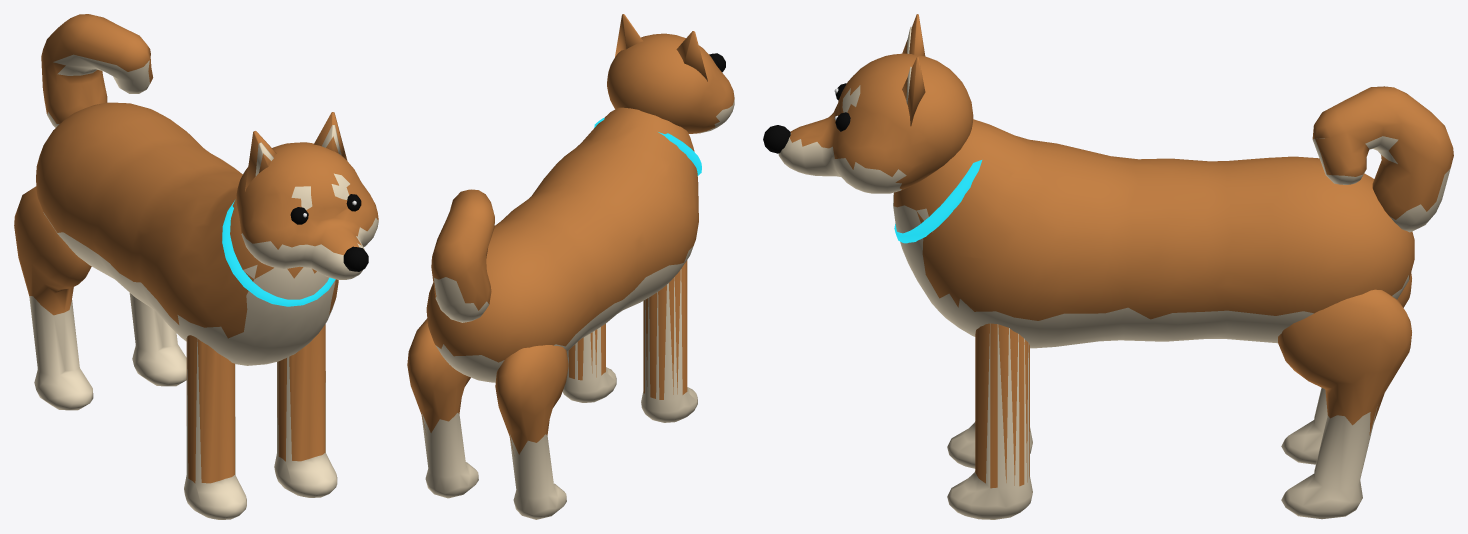
File: Pet_Dog_Walk.glb
3 views of the same model, side by side, from view 1: azimuth 30°, elevation 25°; view 2: azimuth 150°, elevation 25°; view 3: azimuth 270°, elevation 25° (orthographic). The views are drawn at different scales.
Visible parts, largest first — view 1: Pet_Dog_Walk, DogWalk_Head, DogWalk_Leg_BR, DogWalk_Leg_FR, DogWalk_Tail, DogWalk_Leg_FL, DogWalk_Leg_BL; view 2: Pet_Dog_Walk, DogWalk_Head, DogWalk_Leg_BR, DogWalk_Leg_BL, DogWalk_Tail, DogWalk_Leg_FR, DogWalk_Leg_FL; view 3: Pet_Dog_Walk, DogWalk_Head, DogWalk_Leg_BL, DogWalk_Tail, DogWalk_Leg_FL, DogWalk_Leg_BR, DogWalk_Leg_FR.
Part boxes in pixels (x1,y1,x2,y2): Pet_Dog_Walk: [36, 102, 338, 365]; DogWalk_Head: [236, 112, 378, 279]; DogWalk_Leg_BR: [14, 186, 93, 410]; DogWalk_Leg_FR: [184, 335, 246, 519]; DogWalk_Tail: [41, 14, 153, 127]; DogWalk_Leg_FL: [274, 324, 337, 497]; DogWalk_Leg_BL: [129, 293, 186, 386]; Pet_Dog_Walk: [426, 107, 701, 382]; DogWalk_Head: [607, 14, 734, 133]; DogWalk_Leg_BR: [495, 345, 568, 519]; DogWalk_Leg_BL: [407, 318, 478, 498]; DogWalk_Tail: [431, 189, 494, 322]; DogWalk_Leg_FR: [641, 260, 697, 422]; DogWalk_Leg_FL: [562, 324, 616, 402]; Pet_Dog_Walk: [893, 119, 1414, 348]; DogWalk_Head: [763, 14, 973, 193]; DogWalk_Leg_BL: [1278, 289, 1411, 519]; DogWalk_Tail: [1312, 86, 1453, 232]; DogWalk_Leg_FL: [947, 323, 1032, 519]; DogWalk_Leg_BR: [1281, 273, 1411, 464]; DogWalk_Leg_FR: [947, 421, 1032, 468].
Bounding box in the file's own units: 0.2066 × 0.5135 × 0.7064.
